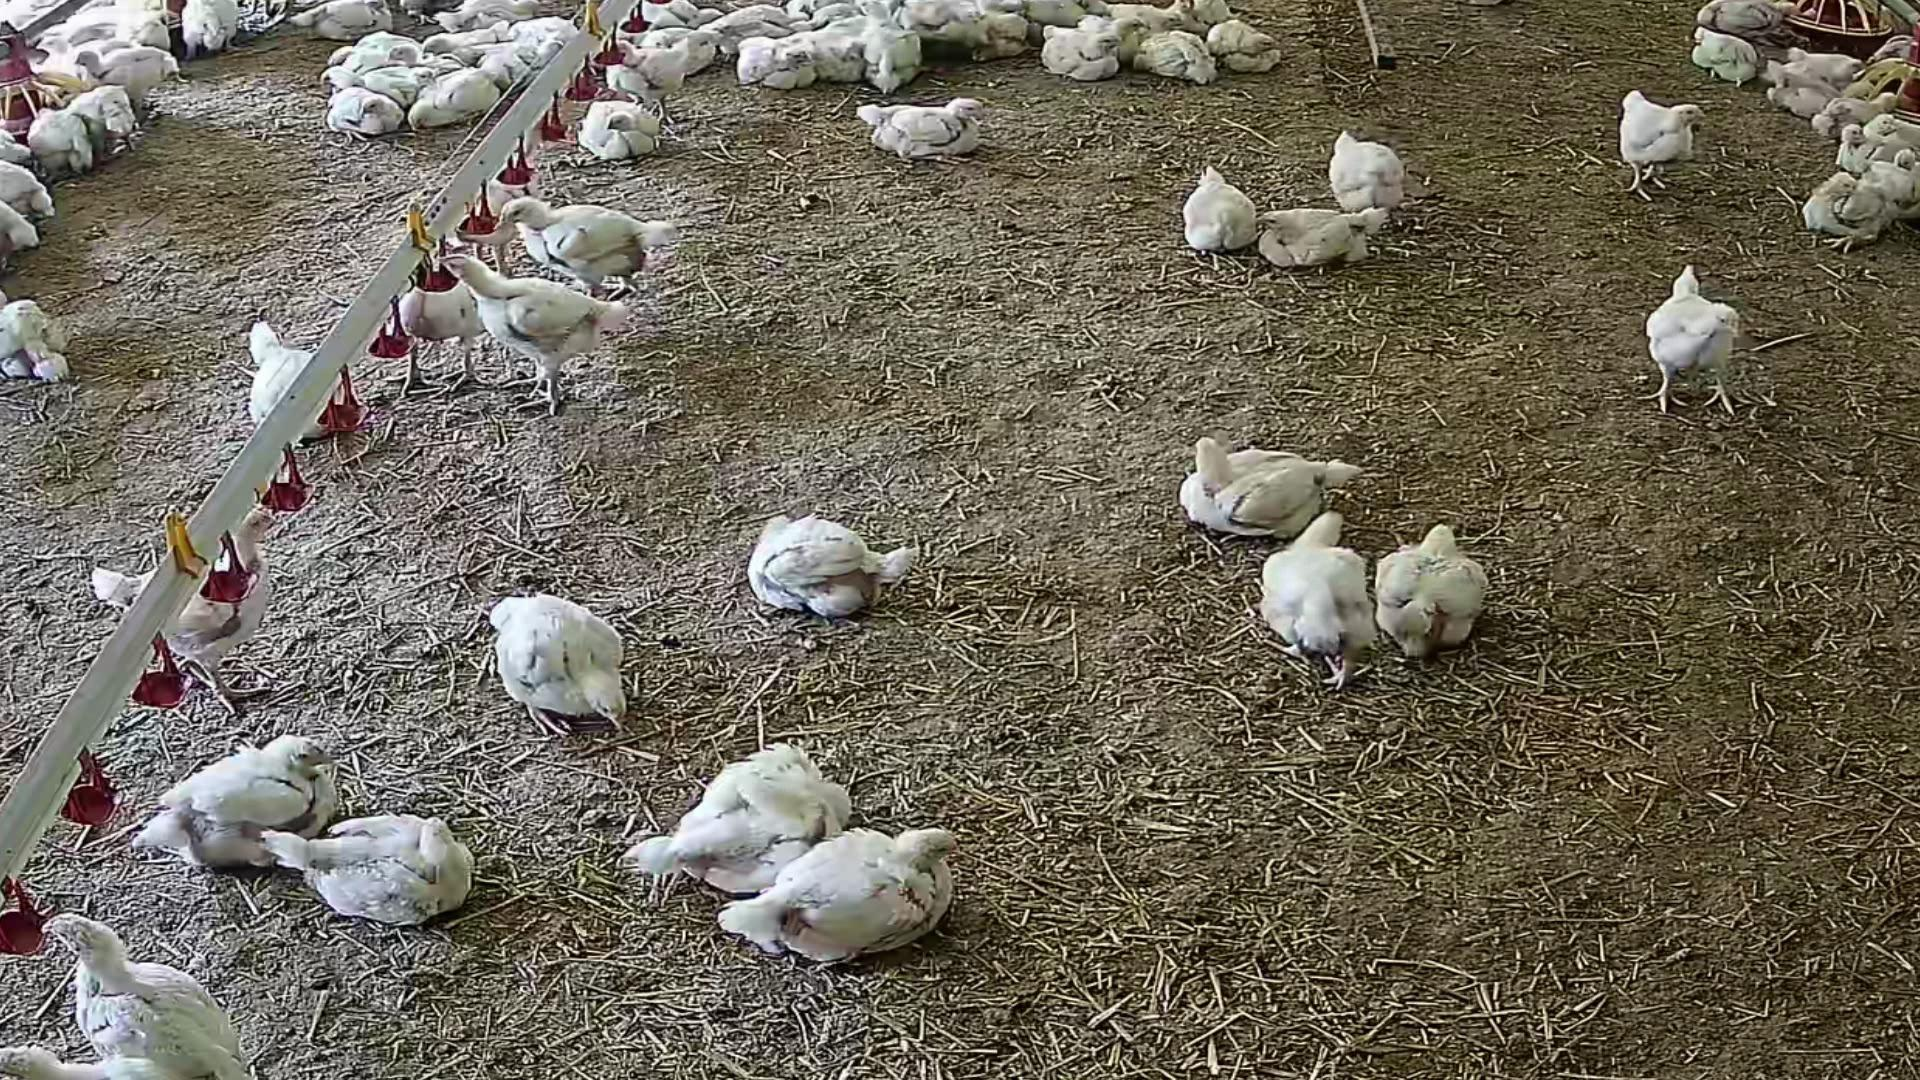poussin: (88, 509, 281, 709), (40, 914, 262, 1080), (740, 819, 967, 975), (625, 745, 849, 893), (443, 245, 632, 421), (149, 735, 338, 889), (262, 812, 479, 934), (508, 189, 658, 320), (489, 592, 630, 731), (749, 510, 920, 622), (1179, 436, 1358, 542), (1266, 513, 1369, 692), (1633, 262, 1747, 414), (392, 245, 488, 393), (232, 316, 344, 443), (1379, 527, 1481, 655), (1618, 91, 1706, 200), (0, 291, 80, 402), (857, 95, 982, 164), (1258, 208, 1387, 266), (406, 59, 506, 131), (0, 1046, 203, 1080), (1179, 165, 1257, 253), (1789, 175, 1884, 247), (1331, 131, 1404, 218), (572, 100, 665, 169), (608, 50, 716, 105), (313, 88, 406, 152), (291, 0, 396, 55), (74, 54, 181, 107), (1684, 20, 1756, 94), (1859, 149, 1917, 232), (25, 103, 90, 175), (1137, 29, 1212, 88), (0, 162, 73, 223), (744, 36, 818, 95), (69, 90, 149, 144), (1040, 26, 1124, 76), (173, 0, 240, 61), (1700, 0, 1799, 41), (864, 21, 924, 87), (1816, 88, 1905, 128), (1209, 20, 1276, 71), (907, 4, 981, 50), (1782, 45, 1870, 83), (1751, 69, 1850, 102), (810, 28, 868, 82), (0, 203, 45, 272), (361, 62, 443, 99), (640, 29, 721, 65), (969, 12, 1030, 58), (1084, 13, 1146, 57), (435, 0, 541, 25), (1105, 5, 1179, 40), (709, 21, 796, 49), (479, 41, 560, 70), (426, 22, 502, 51), (502, 17, 570, 46), (1833, 128, 1878, 170), (1895, 138, 1919, 216), (302, 62, 361, 92), (396, 40, 450, 73), (1175, 0, 1238, 28), (1793, 91, 1846, 124), (800, 4, 860, 28), (742, 4, 811, 24), (1869, 111, 1900, 141)
